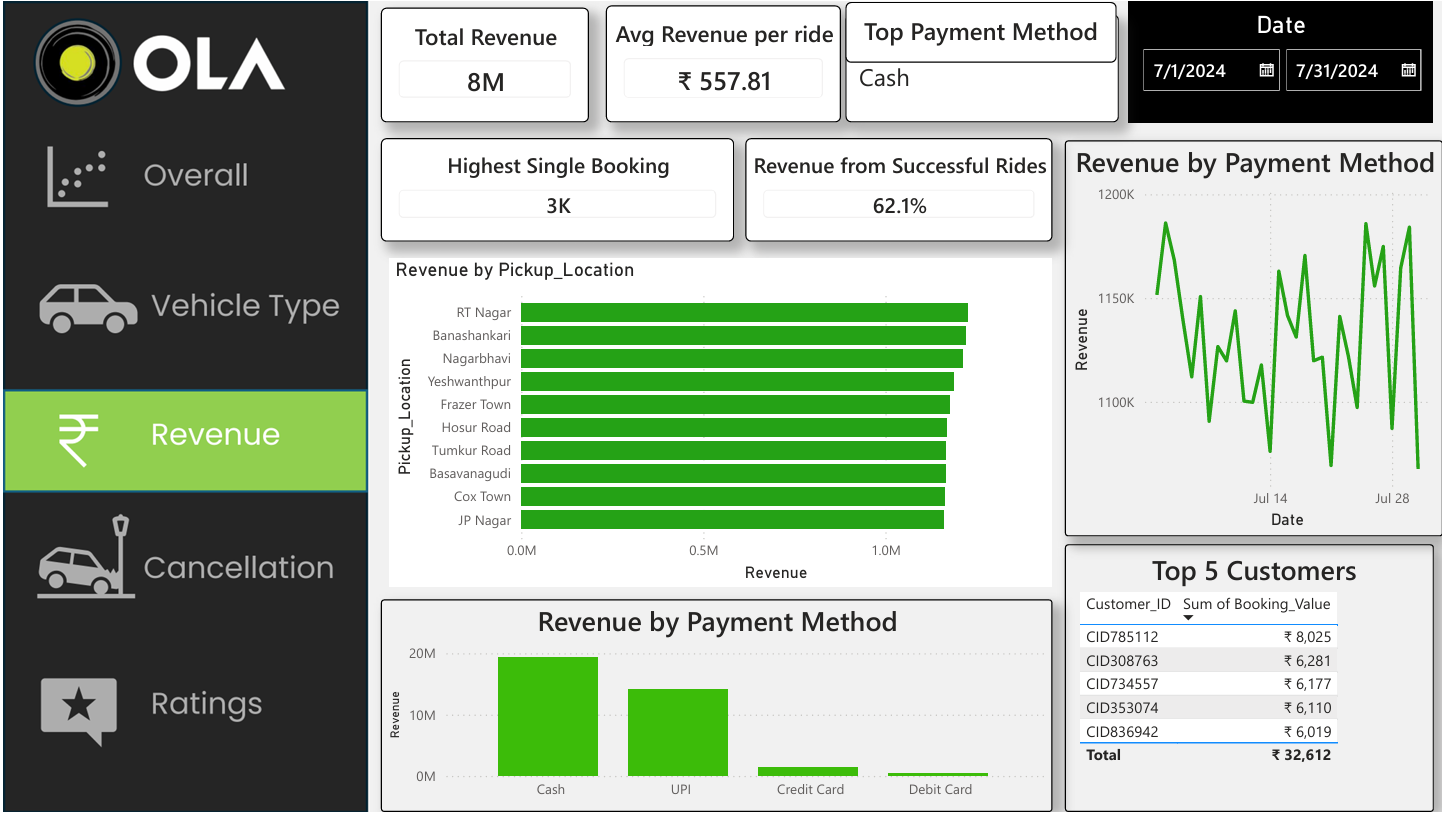

Layout of this report page (visuals, bound fields, positions):
{"tool":"powerbi","page":{"name":"Revenue","canvas":[1280,720],"ordinal":2},"visuals":[{"type":"actionButton","box":[0,120.8,325.2,91.9],"z":0},{"type":"actionButton","box":[0,227.8,325.2,91.9],"z":1000},{"type":"actionButton","box":[0,462.4,325.2,91.9],"z":2000},{"type":"actionButton","box":[0,587.3,325.2,91.9],"z":3000},{"type":"clusteredColumnChart","title":"Revenue by Payment Method","fields":{"Category":["July.Payment_Method"],"Y":["July.Revenue"]},"box":[334.8,531,596.9,189.4],"z":4000},{"type":"lineChart","title":"Revenue by Payment Method","fields":{"Category":["July.Date"],"Y":["July.Revenue"]},"box":[942.7,123.5,337.6,351.3],"z":5000},{"type":"slicer","title":"Date","fields":{"Values":["July.Date"]},"box":[1000.3,0,270.3,108.4],"z":6000},{"type":"tableEx","title":"Top 5 Customers","fields":{"Values":["July.Customer_ID","Sum(July.Booking_Value)"]},"box":[942.7,481.6,328,238.8],"z":7000},{"type":"cardVisual","title":"Total Revenue ","fields":{"Data":["July.total revenue"]},"box":[334.8,5.5,185.2,101.5],"z":8000},{"type":"cardVisual","title":"Avg Revenue per ride","fields":{"Data":["July.avg booking value"]},"box":[535.2,2.7,208.6,104.3],"z":9000},{"type":"tableEx","fields":{"Values":["July.Payment_Method"]},"box":[747.9,11,242.9,96.1],"z":10000},{"type":"cardVisual","title":"Highest Single Booking","fields":{"Data":["July.Highest Booking"]},"box":[334.8,120.8,314.2,91.9],"z":11000},{"type":"cardVisual","title":"Revenue from Successful Rides","fields":{"Data":["July.Rev from successful ride%"]},"box":[658.7,120.8,273.1,91.9],"z":12000},{"type":"textbox","box":[747.9,0,241.5,53.5],"z":13000},{"type":"barChart","fields":{"Y":["July.Revenue"],"Category":["July.Pickup_Location"]},"box":[343.1,227.8,588.7,292.3],"z":14000}]}

Visuals, with their boxes in screenshot pixels (x1, y1, x2, y2), scaled from the page's 1280x720 canvas onto the 1442x813 screenshot:
actionButton: 0:136:366:240
actionButton: 0:257:366:361
actionButton: 0:522:366:626
actionButton: 0:663:366:767
"Revenue by Payment Method" clusteredColumnChart: 377:600:1050:812
"Revenue by Payment Method" lineChart: 1062:139:1441:536
"Date" slicer: 1127:0:1431:122
"Top 5 Customers" tableEx: 1062:544:1432:812
"Total Revenue " cardVisual: 377:6:586:121
"Avg Revenue per ride" cardVisual: 603:3:838:121
tableEx - July.Payment_Method: 843:12:1116:121
"Highest Single Booking" cardVisual: 377:136:731:240
"Revenue from Successful Rides" cardVisual: 742:136:1050:240
textbox: 843:0:1115:60
barChart - July.Revenue x July.Pickup_Location: 387:257:1050:587
